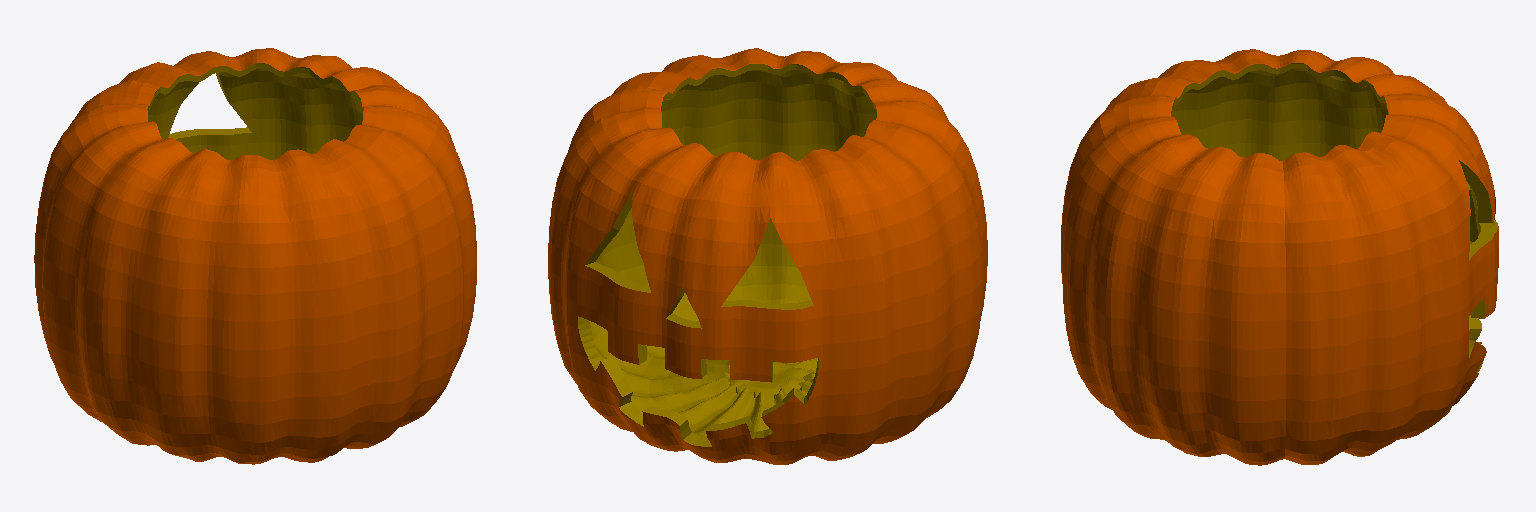
Rendered from Calabaza0.obj.
3 renders of one model, left to right at view 1: azimuth 30°, elevation 25°; view 2: azimuth 150°, elevation 25°; view 3: azimuth 270°, elevation 25°, orthographic.
Visible parts, largest first — view 1: Connect_Untitled; view 2: Connect_Untitled; view 3: Connect_Untitled.
Boxes of the visible parts, x1=… form: Connect_Untitled: x1=34, y1=48, x2=476, y2=464; Connect_Untitled: x1=548, y1=48, x2=987, y2=464; Connect_Untitled: x1=1061, y1=49, x2=1498, y2=465.
Size of the model in its own units: 3.9 by 2.94 by 3.91.